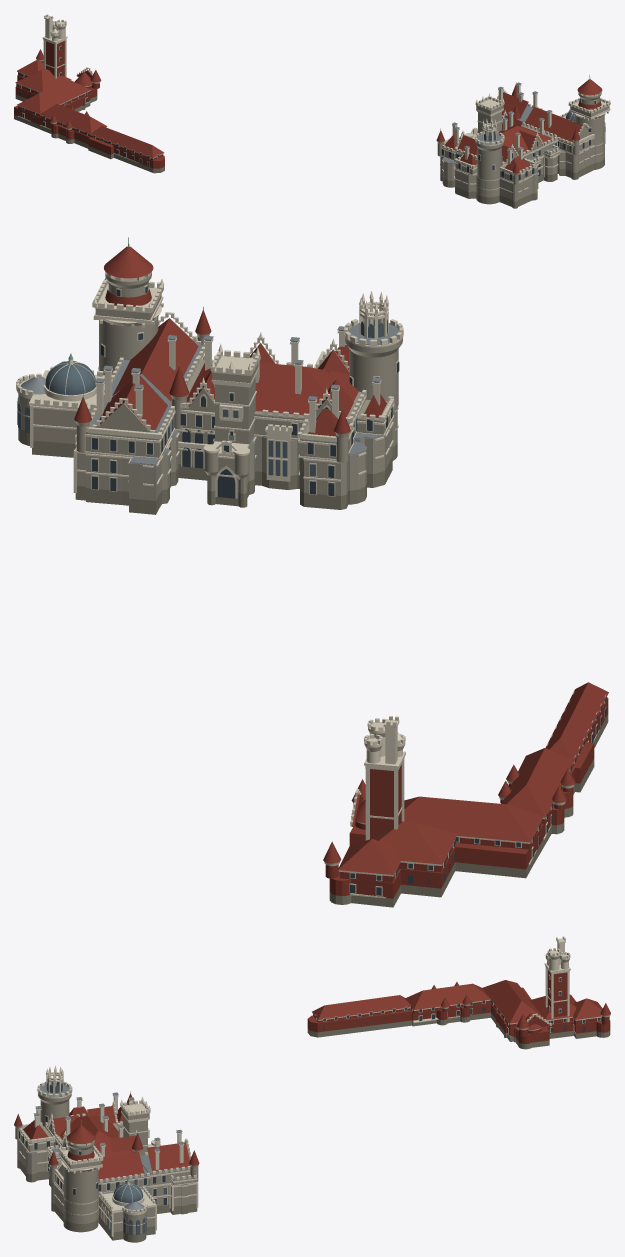
File: casa-loma-near.glb
3 renders of one model, top to bottom at view 1: azimuth 30°, elevation 25°; view 2: azimuth 150°, elevation 25°; view 3: azimuth 270°, elevation 25°, orthographic. The views are drawn at different scales.
Visible parts, largest first — view 1: casa-loma-0-roof, casa-loma-0-stone, casa-loma-0-trim, casa-loma-0-brick, casa-loma-0-rubble, casa-loma-0-glass, casa-loma-0-lead; view 2: casa-loma-0-roof, casa-loma-0-trim, casa-loma-0-stone, casa-loma-0-brick, casa-loma-0-rubble, casa-loma-0-glass, casa-loma-0-glow, casa-loma-0-lead; view 3: casa-loma-0-roof, casa-loma-0-trim, casa-loma-0-stone, casa-loma-0-brick, casa-loma-0-rubble, casa-loma-0-glow, casa-loma-0-lead, casa-loma-0-glass.
Boxes of the visible parts, x1,y1,x2,y2 form: casa-loma-0-roof: (15,49,602,173); casa-loma-0-stone: (437,84,609,201); casa-loma-0-trim: (16,14,610,192); casa-loma-0-brick: (14,41,164,168); casa-loma-0-rubble: (14,94,604,208); casa-loma-0-glass: (19,46,605,180); casa-loma-0-lead: (443,82,582,183); casa-loma-0-roof: (74,246,608,874); casa-loma-0-trim: (16,272,606,898); casa-loma-0-stone: (18,272,402,500); casa-loma-0-brick: (325,697,608,898); casa-loma-0-rubble: (18,428,608,907); casa-loma-0-glass: (92,286,606,895); casa-loma-0-glow: (17,315,387,476); casa-loma-0-lead: (20,322,399,465); casa-loma-0-roof: (14,980,610,1179); casa-loma-0-trim: (15,936,610,1236); casa-loma-0-stone: (15,1093,198,1234); casa-loma-0-brick: (307,970,610,1043); casa-loma-0-rubble: (17,1012,610,1242); casa-loma-0-glow: (46,1079,166,1234); casa-loma-0-lead: (26,1083,192,1211); casa-loma-0-glass: (19,975,600,1205).
Size of the model in its own units: 189 by 38.45 by 199.
